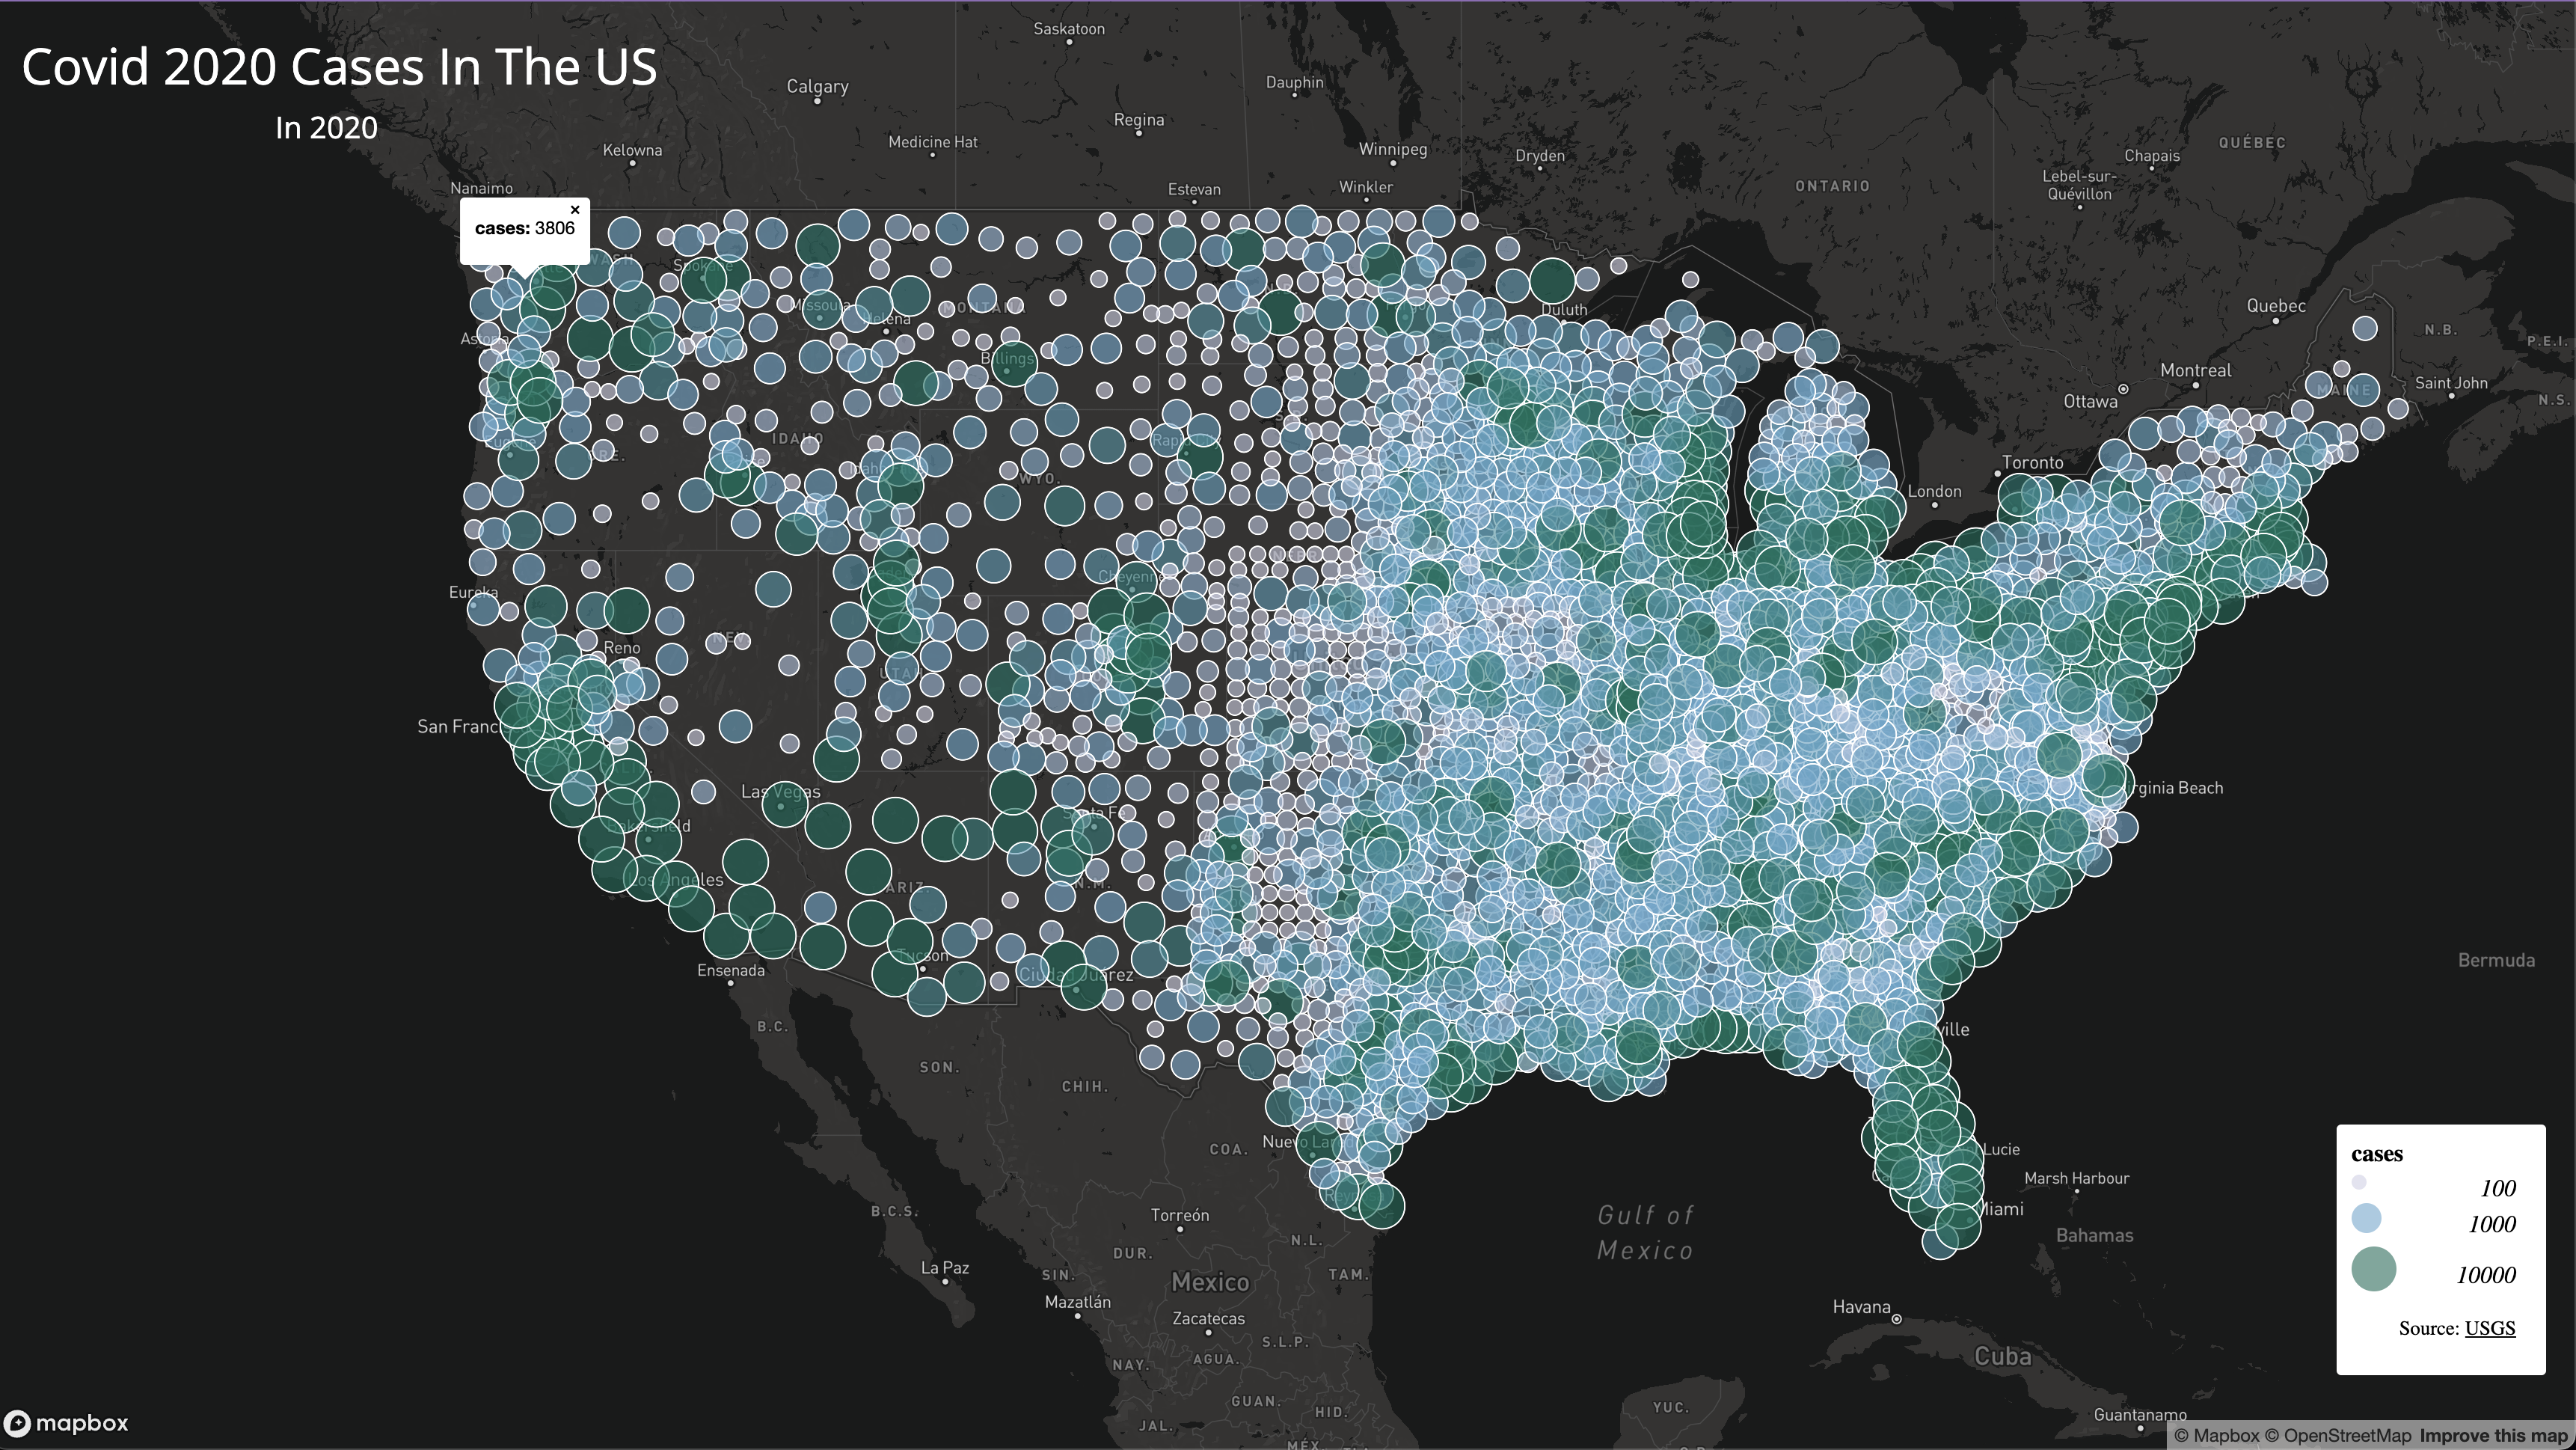

What the dashboard file says about the page in this screenshot:
{"tool":"tableau","page":{"name":"Dashboard 1","canvas":[1000,800],"ordinal":0},"visuals":[{"type":"worksheet","title":"Sheet 2","mark":"Automatic","cols":["Number of Records per us-covid-2020-counts.geojson"],"box":[8,8,492,784]},{"type":"worksheet","title":"Sheet 1","mark":"Automatic","box":[500,8,492,784]}]}

Visuals, with their boxes on the page's 1000x800 design canvas (x1, y1, x2, y2). These are canvas units, not pixel positions in the 2576x1450 screenshot, which may show the page scaled, cropped or inside an application window:
"Sheet 2" worksheet: box(8, 8, 500, 792)
"Sheet 1" worksheet: box(500, 8, 992, 792)
